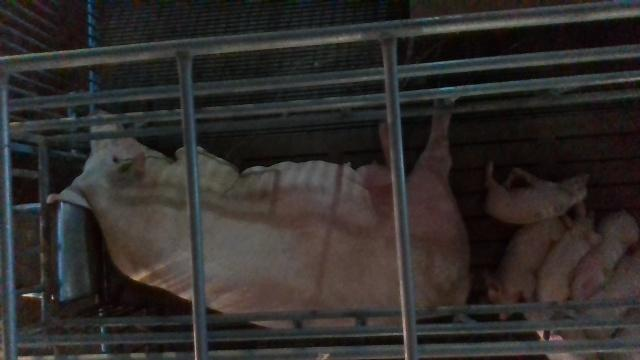piglet: (484, 218, 565, 322), (571, 208, 640, 308), (486, 161, 589, 223), (536, 209, 603, 303), (581, 242, 640, 339)
sow-sleep: (46, 98, 473, 330)
